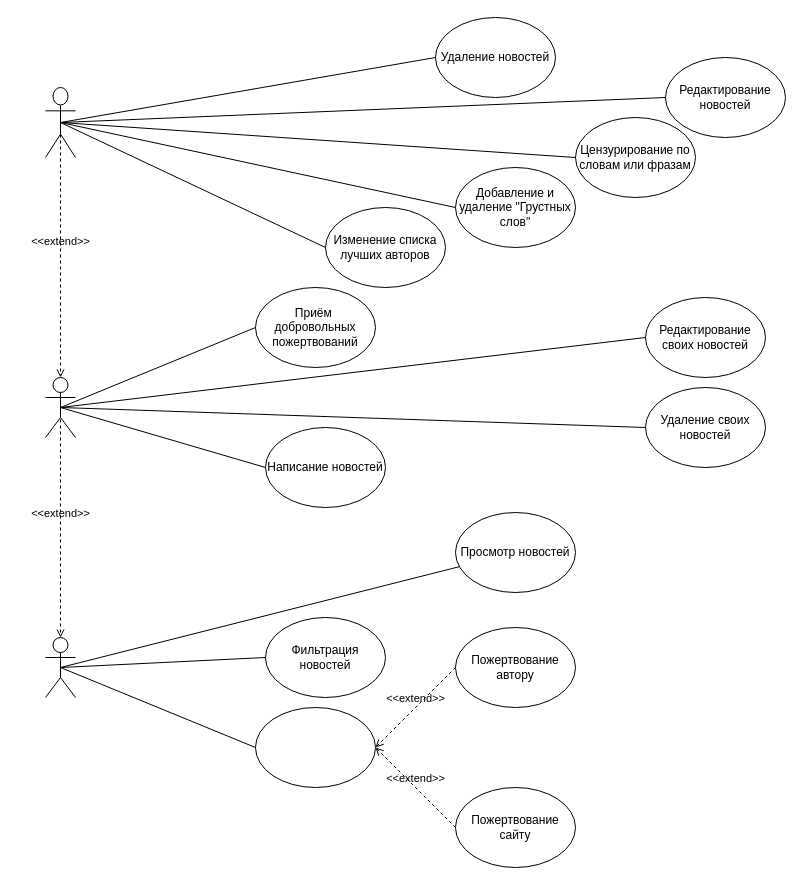
This 803x885 diagram has some shape labels left out. Each missing label, with the centre of its shape:
Автор: [60,407]
Администратор: [60,122]
Осуществление добровольных пожертвований: [315,747]
Читатель: [60,667]
